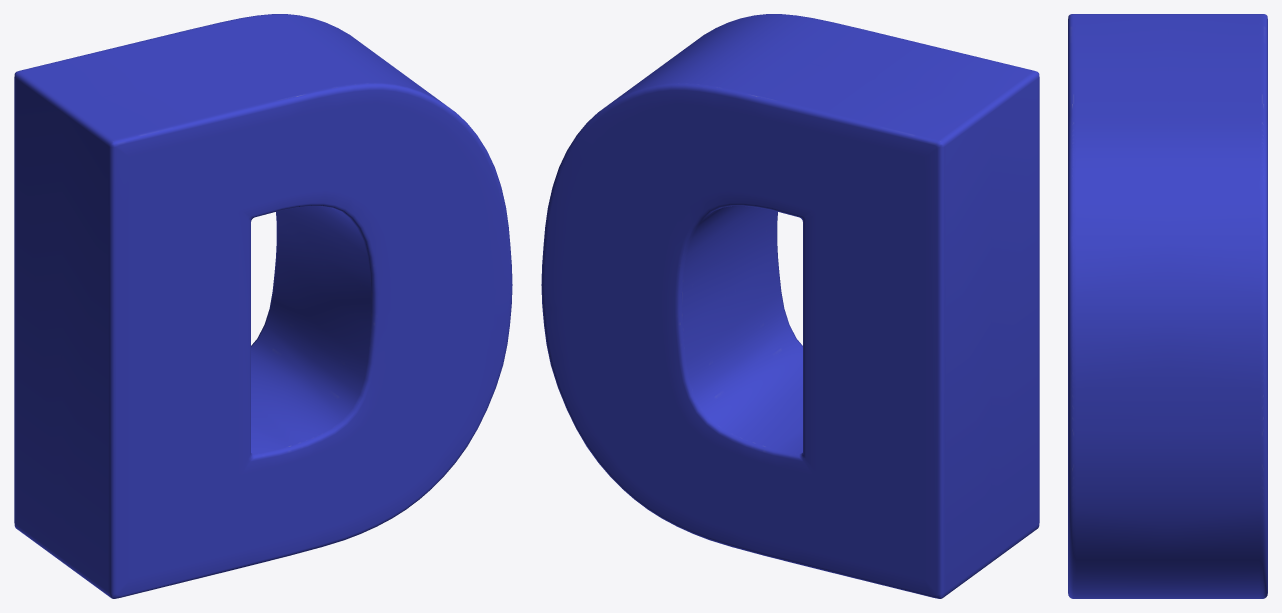
The model's file is alphabet1.glb.
The picture shows the model from 3 angles, left to right: view 1: azimuth 30°, elevation 25°; view 2: azimuth 150°, elevation 25°; view 3: azimuth 270°, elevation 25°; orthographic projection.
Visible parts, largest first — view 1: node_id42_1; view 2: node_id42_1; view 3: node_id42_1.
Boxes of the visible parts, box(x1,y1,x2,y2) form: node_id42_1: box(14, 14, 512, 598); node_id42_1: box(541, 14, 1039, 598); node_id42_1: box(1068, 14, 1267, 598).
Size of the model in its own units: 0.4708 by 0.512 by 0.2015.
1 material, 1 textured.
